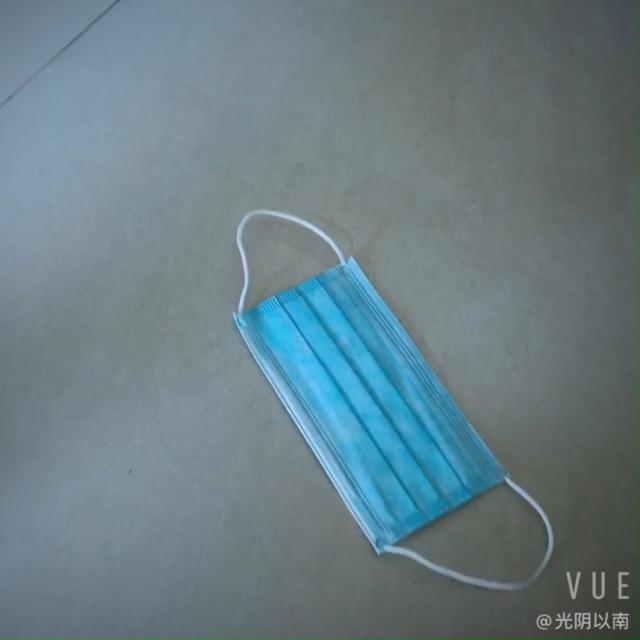non-organic waste: (238, 220, 497, 562)
